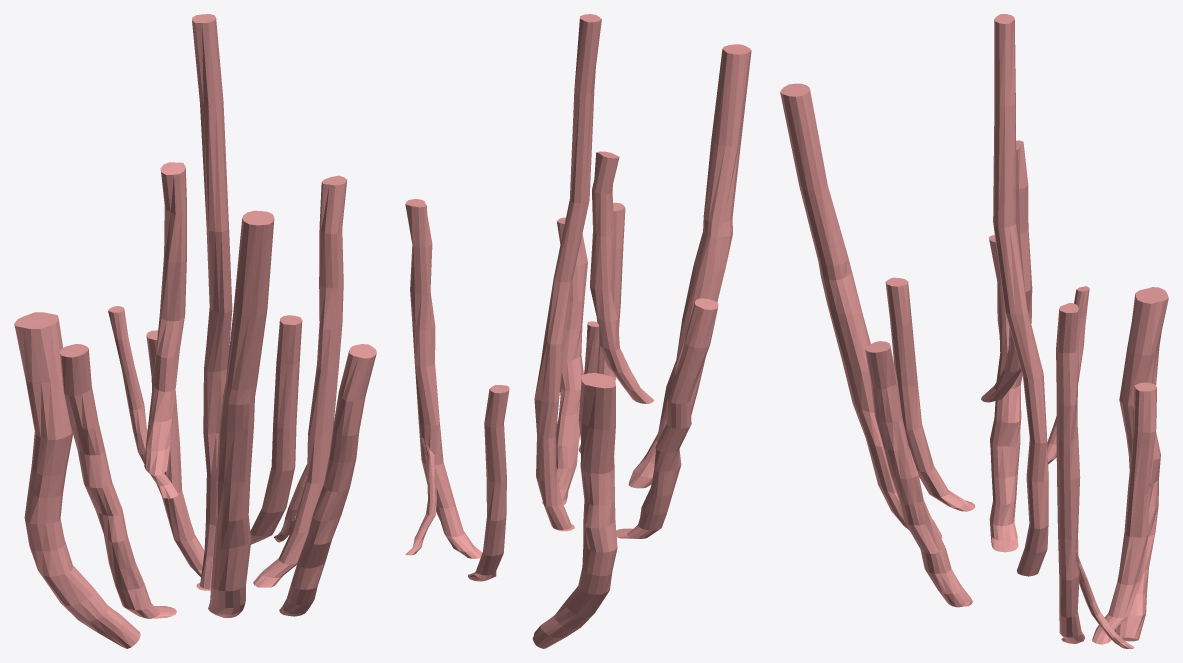
3 renders of one model, left to right at view 1: azimuth 30°, elevation 25°; view 2: azimuth 150°, elevation 25°; view 3: azimuth 270°, elevation 25°, orthographic. The views are drawn at different scales.
Visible parts, largest first — view 1: Cylinder007; view 2: Cylinder007; view 3: Cylinder007.
Boxes of the visible parts, left/top/right/bottom form: Cylinder007: left=14, top=14, right=376, bottom=648; Cylinder007: left=405, top=14, right=751, bottom=648; Cylinder007: left=780, top=14, right=1168, bottom=648.
Bounding box in the file's own units: 1110 × 2223 × 1244.
